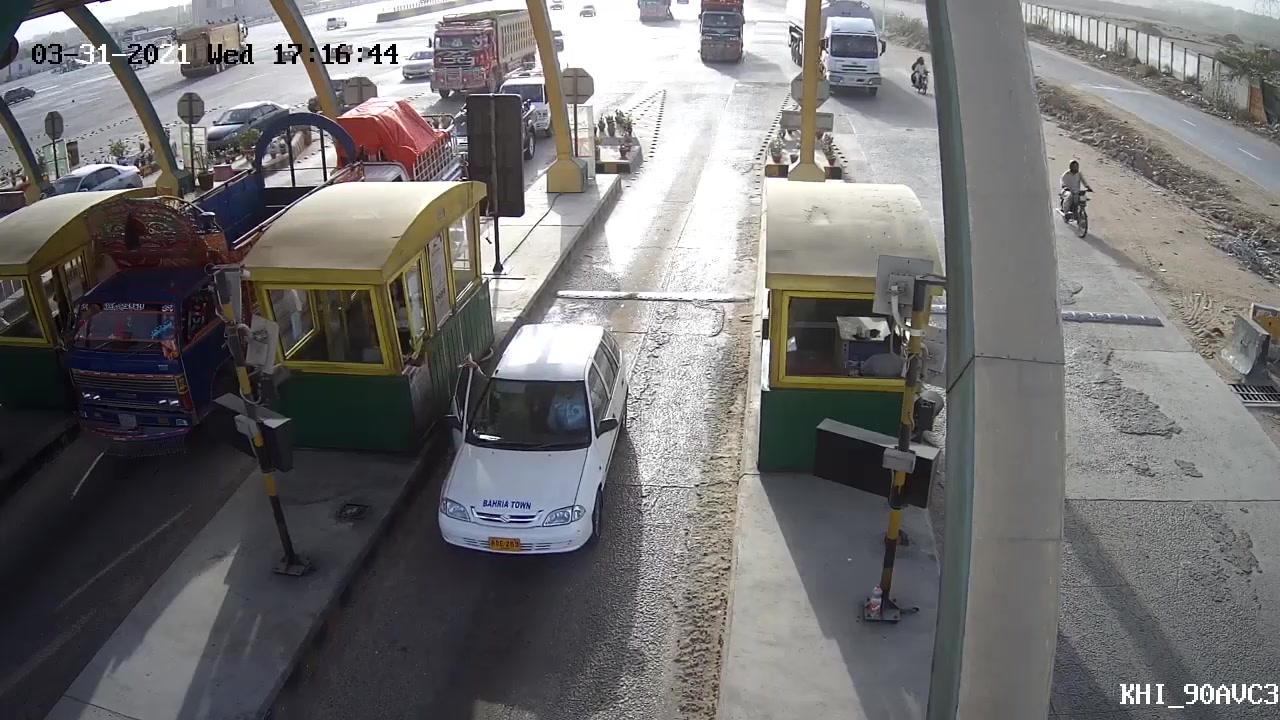F1: (430, 317, 639, 562)
